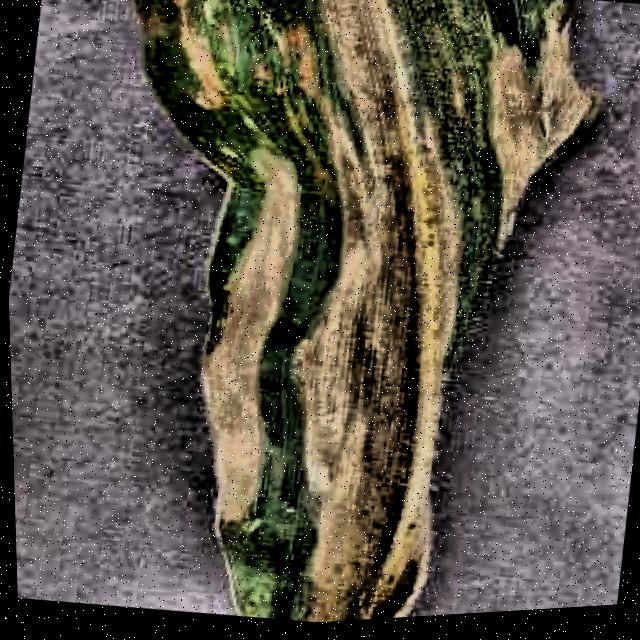blight: (62, 0, 598, 636)
